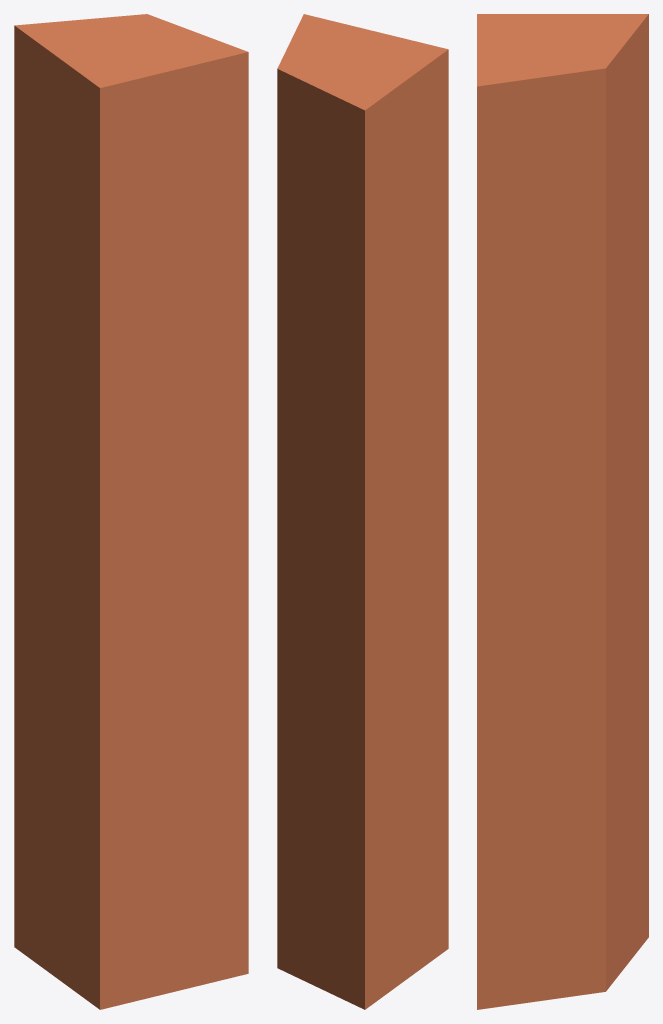
File: cliff_corner_rock.glb
The picture shows the model from 3 angles, left to right: view 1: azimuth 30°, elevation 25°; view 2: azimuth 150°, elevation 25°; view 3: azimuth 270°, elevation 25°; orthographic projection. The views are drawn at different scales.
Parts seen in each view (by area): view 1: cliff_corner_rock; view 2: cliff_corner_rock; view 3: cliff_corner_rock.
Boxes of the visible parts, bbox=[...] form: cliff_corner_rock: bbox=[14, 14, 248, 1009]; cliff_corner_rock: bbox=[277, 14, 448, 1009]; cliff_corner_rock: bbox=[477, 14, 648, 1009].
Bounding box in the file's own units: 0.1685 × 1 × 0.1685.
